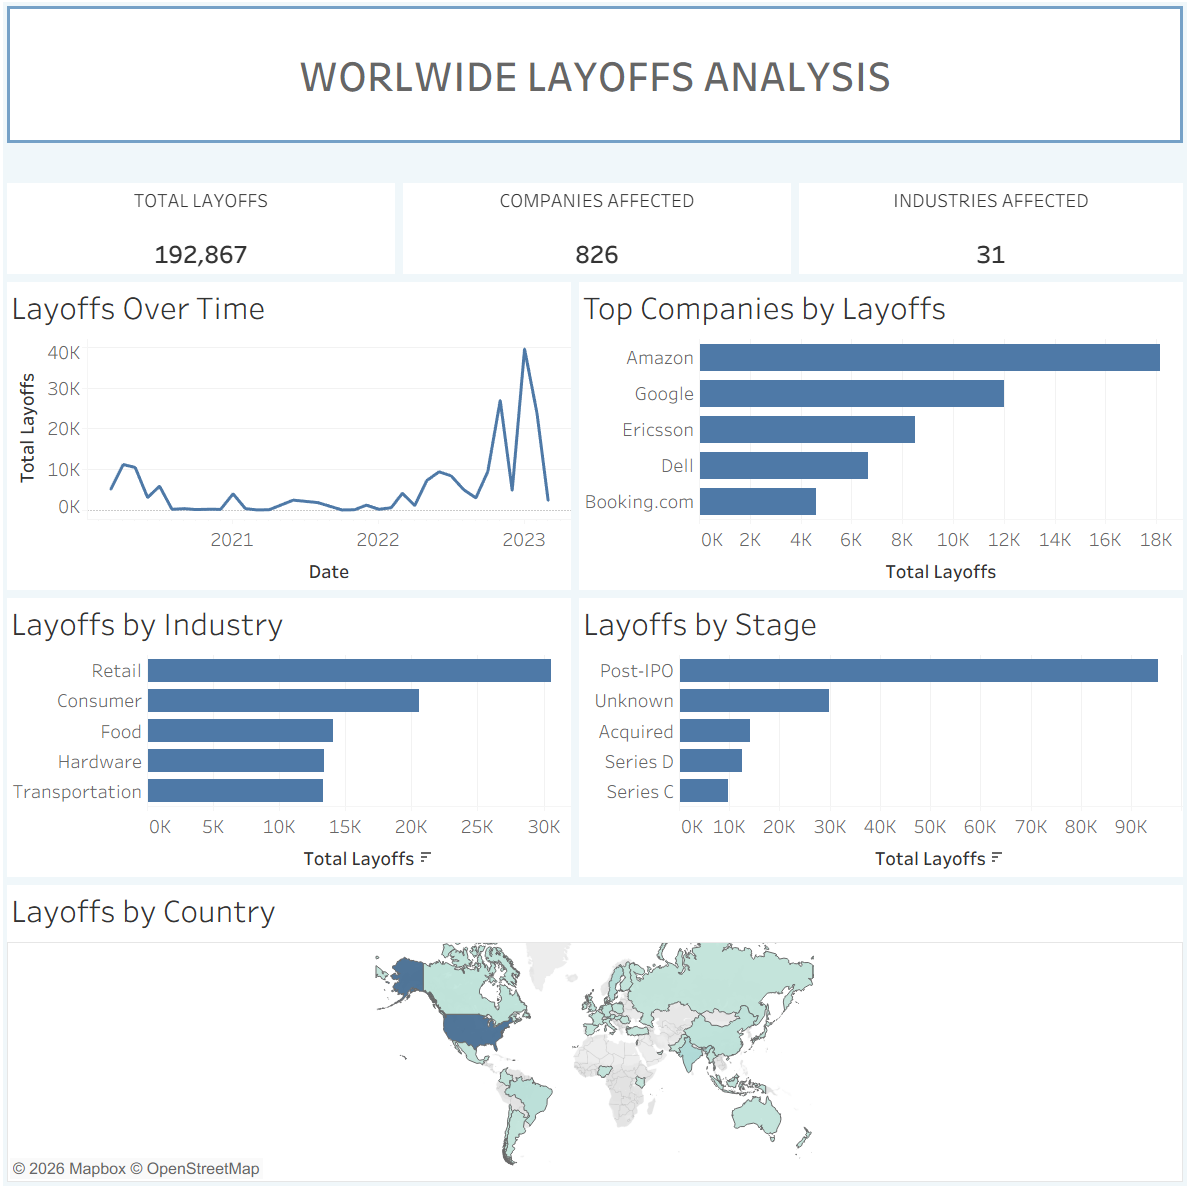

This screenshot's page, from the dashboard's own definition file:
{"tool":"tableau","page":{"name":"Worldwide Layoffs Dashboard","canvas":[1200,1200],"ordinal":0},"visuals":[{"type":"text","box":[8,8,1184,145]},{"type":"blank","box":[8,153,1184,32]},{"type":"worksheet","title":"Sheet 6","mark":"Text","box":[8,185,396,99]},{"type":"worksheet","title":"Sheet 7","mark":"Automatic","box":[404,185,396,99]},{"type":"worksheet","title":"Sheet 8","mark":"Automatic","box":[800,185,392,99]},{"type":"worksheet","title":"Layoffs Over Time","mark":"Line","rows":["total_laid_off"],"cols":["date"],"box":[8,284,572,316]},{"type":"worksheet","title":"Top Companies by Layoffs","mark":"Bar","rows":["company"],"cols":["total_laid_off"],"box":[580,284,612,316]},{"type":"worksheet","title":"Layoffs by Industry","mark":"Bar","rows":["industry"],"cols":["total_laid_off"],"box":[8,600,572,287]},{"type":"worksheet","title":"Layoffs by Company Stage","mark":"Bar","rows":["stage"],"cols":["total_laid_off"],"box":[580,600,612,287]},{"type":"worksheet","title":"Layoffs by Country","mark":"Automatic","box":[8,887,1184,305]}]}

Visuals, with their boxes in screenshot pixels (x1, y1, x2, y2), scaled from the page's 1200x1200 canvas onto the 1195x1192 screenshot:
text: pyautogui.locateOnScreen(8, 8, 1187, 152)
blank: pyautogui.locateOnScreen(8, 152, 1187, 184)
"Sheet 6" worksheet (Text marks): pyautogui.locateOnScreen(8, 184, 402, 282)
"Sheet 7" worksheet: pyautogui.locateOnScreen(402, 184, 797, 282)
"Sheet 8" worksheet: pyautogui.locateOnScreen(797, 184, 1187, 282)
"Layoffs Over Time" worksheet (Line marks): pyautogui.locateOnScreen(8, 282, 578, 596)
"Top Companies by Layoffs" worksheet (Bar marks): pyautogui.locateOnScreen(578, 282, 1187, 596)
"Layoffs by Industry" worksheet (Bar marks): pyautogui.locateOnScreen(8, 596, 578, 881)
"Layoffs by Company Stage" worksheet (Bar marks): pyautogui.locateOnScreen(578, 596, 1187, 881)
"Layoffs by Country" worksheet: pyautogui.locateOnScreen(8, 881, 1187, 1184)
